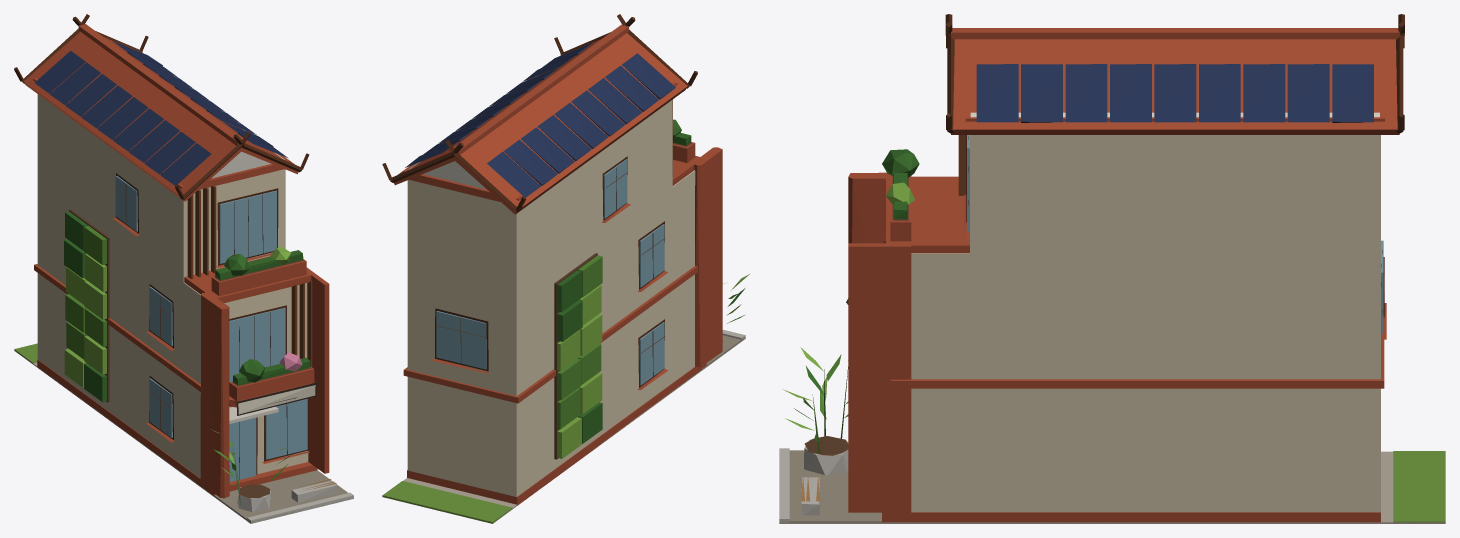
Rendered from bay1_left.glb.
The picture shows the model from 3 angles, left to right: view 1: azimuth 30°, elevation 25°; view 2: azimuth 150°, elevation 25°; view 3: azimuth 270°, elevation 25°; orthographic projection. The views are drawn at different scales.
Visible parts, largest first — view 1: body; view 2: body; view 3: body.
Boxes of the visible parts, box(x1,y1,x2,y2) form: body: box(14, 14, 353, 523); body: box(382, 14, 749, 523); body: box(779, 14, 1445, 523).
Size of the model in its own units: 5.24 by 12.39 by 15.9.
